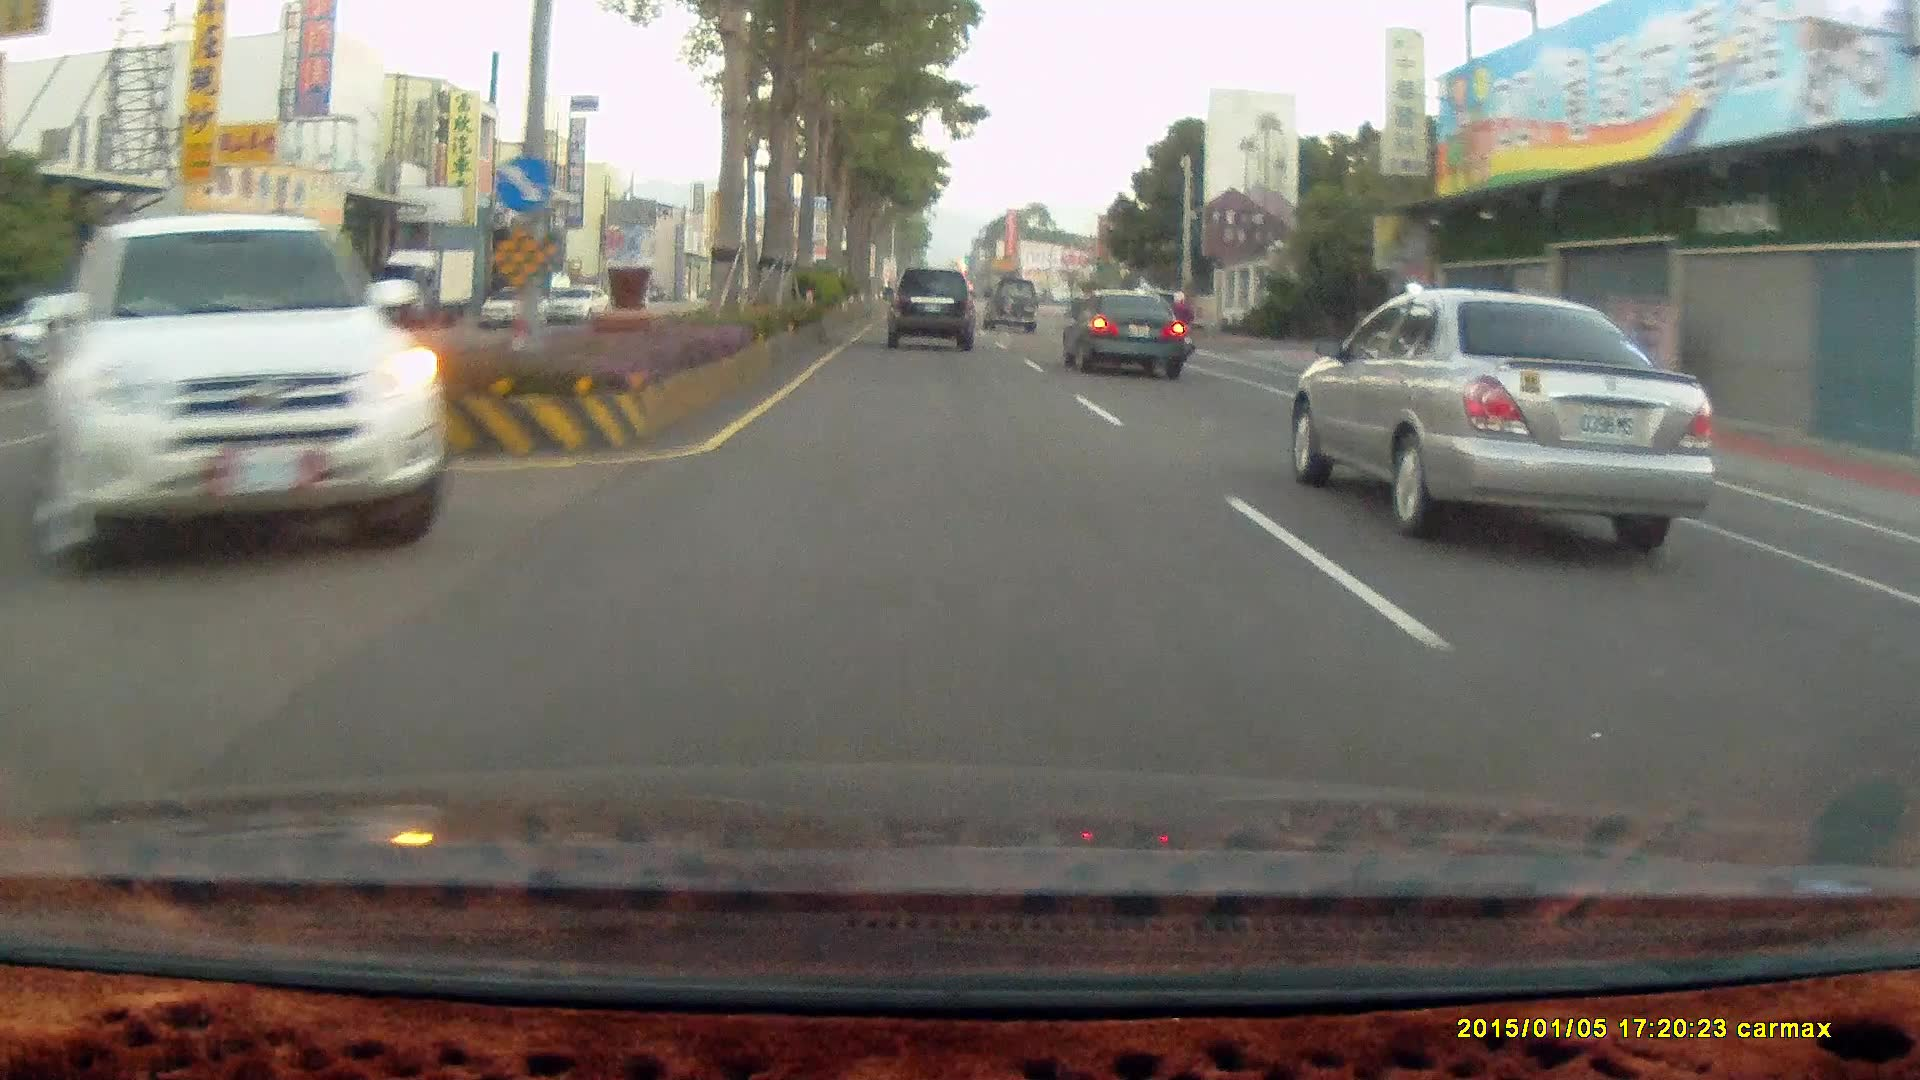rider: (1155, 287, 1198, 363)
vehicle: (25, 211, 444, 571), (61, 214, 437, 565), (1294, 290, 1714, 545), (1059, 289, 1186, 380), (1065, 297, 1195, 381), (80, 287, 204, 374), (883, 264, 980, 355), (379, 246, 475, 326), (885, 268, 975, 352), (982, 278, 1039, 335), (481, 292, 548, 337), (982, 275, 1038, 331), (481, 283, 547, 327)
